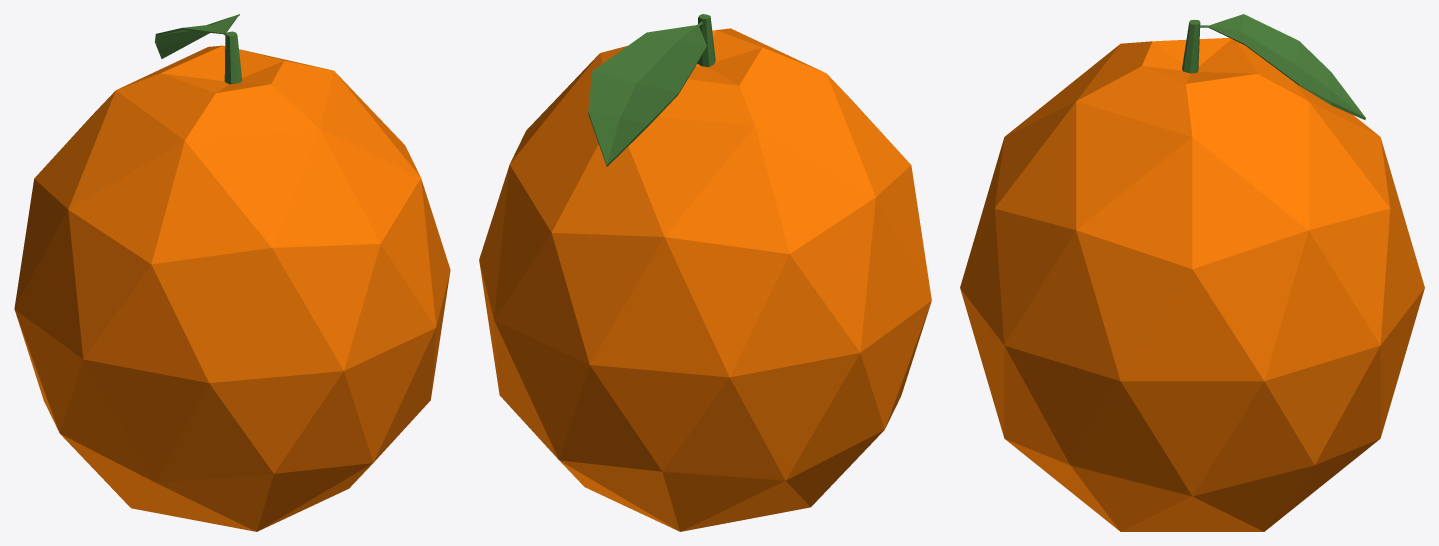
The model's file is Orange_01.fbx.
3 renders of one model, left to right at view 1: azimuth 30°, elevation 25°; view 2: azimuth 150°, elevation 25°; view 3: azimuth 270°, elevation 25°, orthographic. The views are drawn at different scales.
Visible parts, largest first — view 1: Orange_01; view 2: Orange_01; view 3: Orange_01.
Boxes of the visible parts, x1,y1,x2,y2 form: Orange_01: [14, 14, 450, 531]; Orange_01: [479, 14, 931, 531]; Orange_01: [960, 14, 1424, 531].
Bounding box in the file's own units: 9.2 × 11.35 × 9.67.
